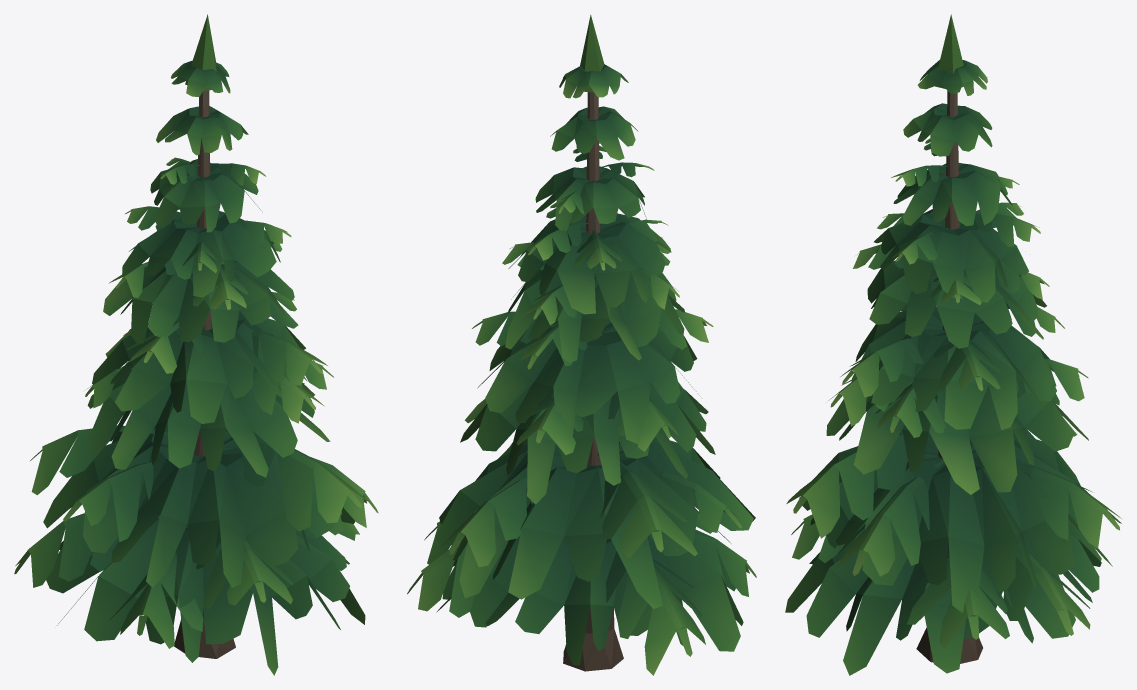
The model's file is spruce_M_normal_std_open_s28.glb.
3 views of the same model, side by side, from view 1: azimuth 30°, elevation 25°; view 2: azimuth 150°, elevation 25°; view 3: azimuth 270°, elevation 25° (orthographic).
Visible parts, largest first — view 1: Tree; view 2: Tree; view 3: Tree.
Boxes of the visible parts, <box> form: Tree: <box>14,14,378,675</box>; Tree: <box>407,14,756,675</box>; Tree: <box>785,14,1121,675</box>.
Size of what is drawn, in the model's own units: 2.96 by 5.96 by 2.85.
